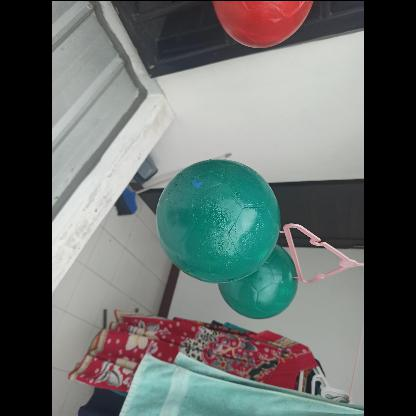green_ball: (156, 154, 284, 282)
